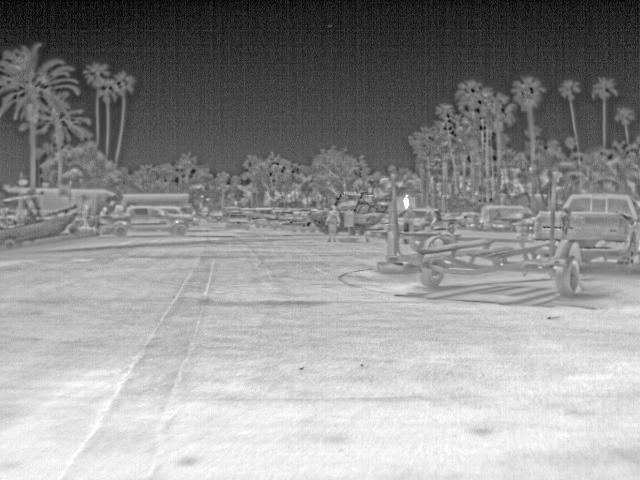car: (533, 186, 639, 246), (101, 206, 193, 237), (389, 207, 453, 234), (480, 204, 531, 230), (222, 211, 252, 231), (155, 206, 186, 220)
dog: (361, 229, 374, 243)
person: (324, 204, 340, 241), (341, 204, 358, 237)
